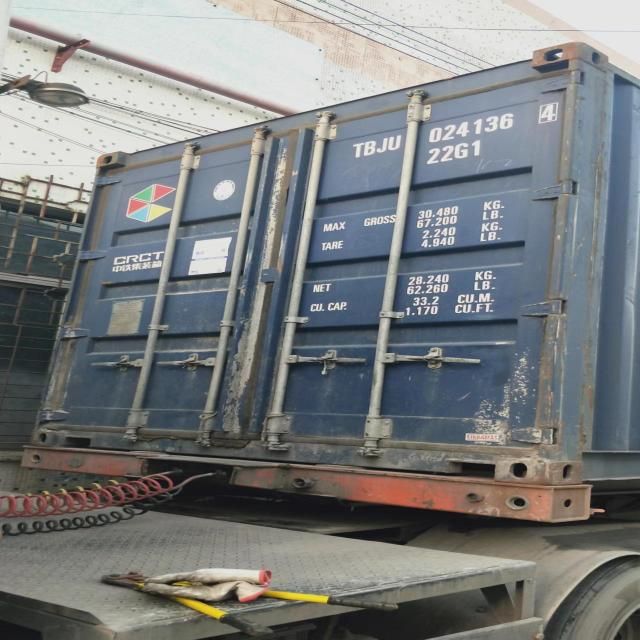seal: (319, 349, 347, 380)
